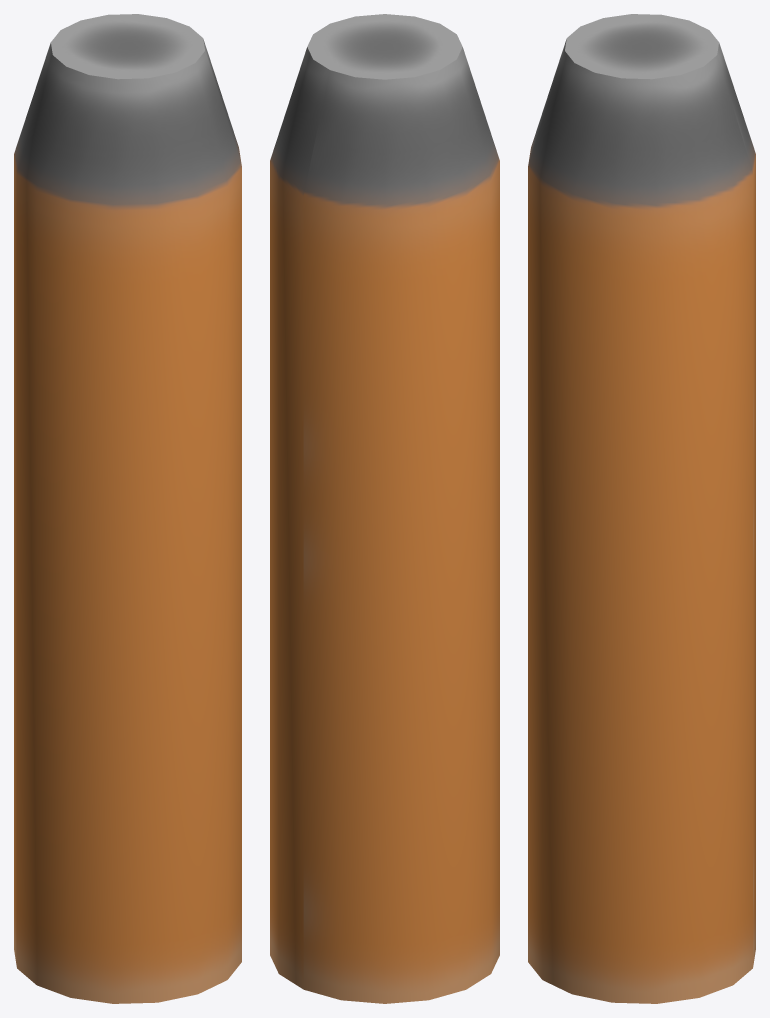
Rendered from 357Bullet.fbx.
3 views of the same model, side by side, from view 1: azimuth 30°, elevation 25°; view 2: azimuth 150°, elevation 25°; view 3: azimuth 270°, elevation 25° (orthographic).
Visible parts, largest first — view 1: 357Bullet; view 2: 357Bullet; view 3: 357Bullet.
Boxes of the visible parts, x1,y1,x2,y2 form: 357Bullet: (14,14,241,1003); 357Bullet: (270,14,499,1003); 357Bullet: (528,14,755,1003).
Bounding box in the file's own units: 0.012 × 0.0528 × 0.012.
